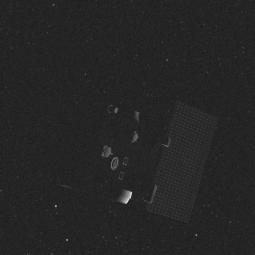proba_3_csc: (52, 83, 222, 225)
